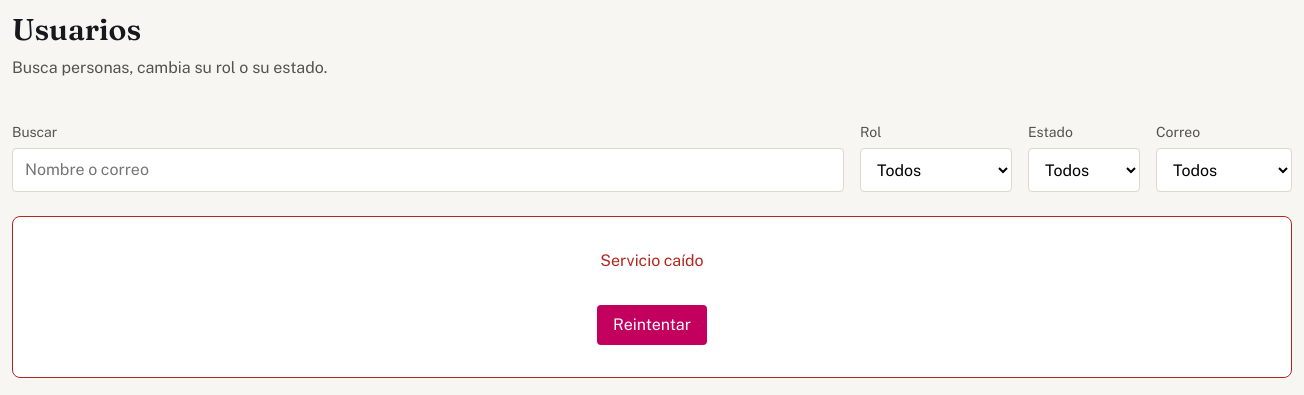
Test: Usuarios › un error del servicio muestra ErrorState con Reintentar, no una lista vacía
The image size is (1304, 395).
Expected: the text "Servicio caído" is shown, top-left (600, 251), bottom-right (704, 270)
Click the button "Reintentar" at (652, 325), box top-left (597, 305), bottom-right (707, 345)
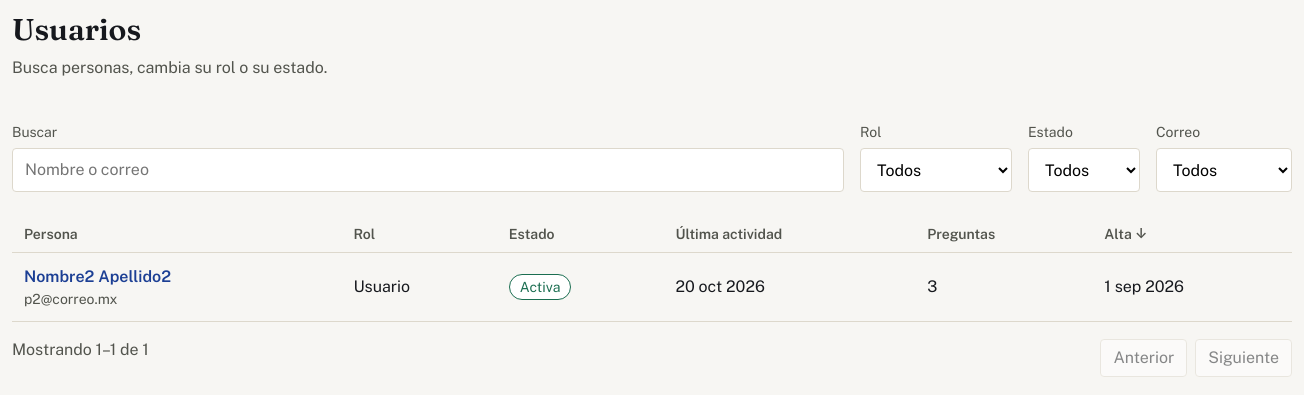
Now the button "Nombre2 Apellido2" is shown, box top-left (24, 265), bottom-right (171, 289)
